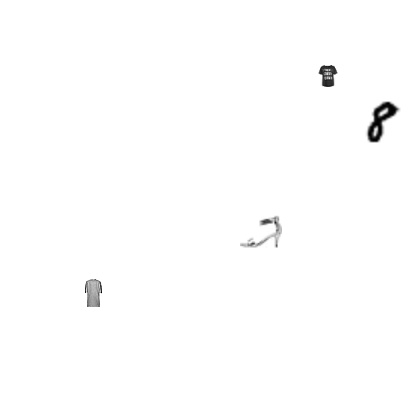8: (352, 92, 408, 148)
Dress: (79, 279, 107, 307)
Sandal: (240, 210, 282, 252)
T-shirt/top: (317, 65, 339, 87)
